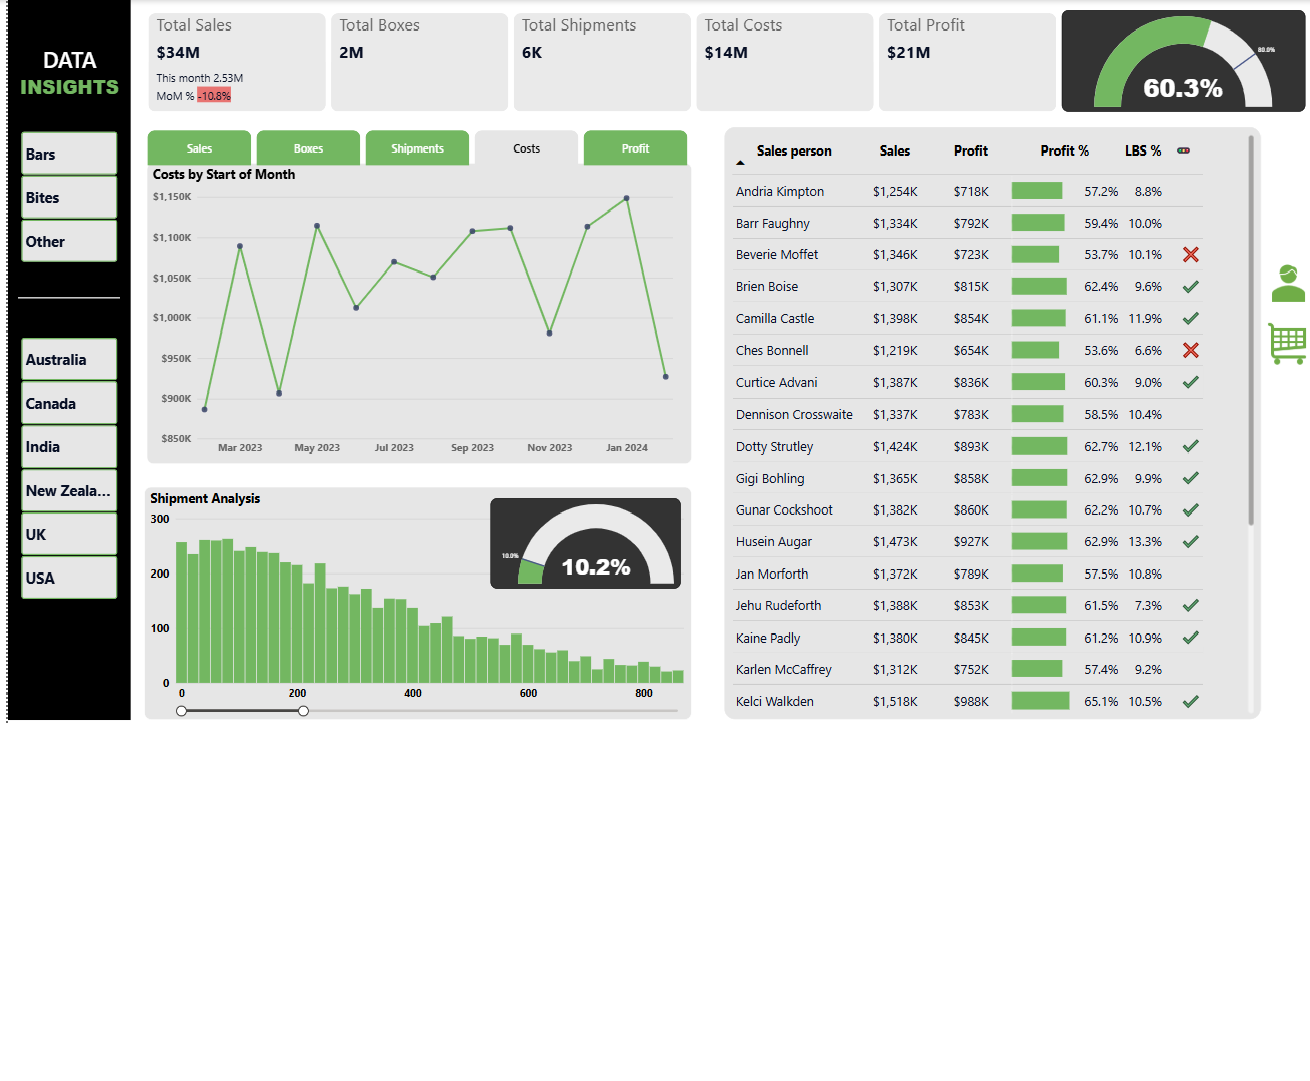

The dashboard page shown, as its layout file describes it:
{"tool":"powerbi","page":{"name":"Sales Report","canvas":[1920,1080],"ordinal":2},"visuals":[{"type":"shape","box":[0,0,180,1039],"z":0},{"type":"cardVisual","fields":{"Data":["_Measures.Total Sales","_Measures.Total Boxes","_Measures.Total Shipments","_Measures.Total Costs","_Measures.Total Profit"]},"box":[199.9,18.3,1346.3,148.6],"z":1000},{"type":"gauge","fields":{"Y":["_Measures.Profit %"]},"box":[1546.3,14.7,357.7,146.7],"z":2000},{"type":"lineChart","fields":{"Y":["_Measures.Total Shipments"],"Category":["calendar.Start of Month"]},"box":[203.6,234.8,799.7,434.7],"z":3000},{"type":"advancedSlicerVisual","fields":{"Values":["Measure Selector.Measure Selector"]},"box":[199.9,183.4,803.4,60.5],"z":4000},{"type":"columnChart","title":"Shipment Analysis","fields":{"Category":["shipments.Boxes (bins)"],"Y":["_Measures.Total Shipments"]},"box":[199.9,702.5,803.4,335.7],"z":5000},{"type":"gauge","fields":{"Y":["_Measures.LBS %"]},"box":[708,719,278.8,130.2],"z":6000},{"type":"tableEx","title":"product table","fields":{"Values":["products.Product","_Measures.Total Sales","_Measures.Total Profit","_Measures.Profit %","_Measures.LBS %","_Measures.Profit Target Indicator"]},"box":[1052,184.4,785.2,854.6],"z":8000},{"type":"image","box":[1837.9,366.8,82.5,86.2],"z":9000},{"type":"image","box":[1837.9,453.1,82.5,86.2],"z":10000},{"type":"textbox","box":[0,59.6,180.6,124.7],"z":11000},{"type":"advancedSlicerVisual","fields":{"Values":["products.Category"]},"box":[15.2,184.4,151.8,199.6],"z":12000},{"type":"advancedSlicerVisual","fields":{"Values":["locations.Geo"]},"box":[15.2,481.5,151.8,388.3],"z":13000},{"type":"textbox","box":[100,100,300,300],"z":14000},{"type":"textbox","box":[100,100,300,300],"z":15000},{"type":"textbox","box":[100,100,300,300],"z":16000},{"type":"textbox","box":[100,100,300,300],"z":17000},{"type":"shape","box":[15.2,338.4,149.7,184.4],"z":18000}]}

Visuals, with their boxes on the page's 1920x1080 design canvas (x1, y1, x2, y2). These are canvas units, not pixel positions in the 1310x1081 screenshot, which may show the page scaled, cropped or inside an application window:
shape: region(0, 0, 180, 1039)
cardVisual - _Measures.Total Sales x _Measures.Total Boxes: region(200, 18, 1546, 167)
gauge - _Measures.Profit %: region(1546, 15, 1904, 161)
lineChart - _Measures.Total Shipments x calendar.Start of Month: region(204, 235, 1003, 670)
advancedSlicerVisual - Measure Selector.Measure Selector: region(200, 183, 1003, 244)
"Shipment Analysis" columnChart: region(200, 702, 1003, 1038)
gauge - _Measures.LBS %: region(708, 719, 987, 849)
"product table" tableEx: region(1052, 184, 1837, 1039)
image: region(1838, 367, 1920, 453)
image: region(1838, 453, 1920, 539)
textbox: region(0, 60, 181, 184)
advancedSlicerVisual - products.Category: region(15, 184, 167, 384)
advancedSlicerVisual - locations.Geo: region(15, 482, 167, 870)
textbox: region(100, 100, 400, 400)
textbox: region(100, 100, 400, 400)
textbox: region(100, 100, 400, 400)
textbox: region(100, 100, 400, 400)
shape: region(15, 338, 165, 523)
